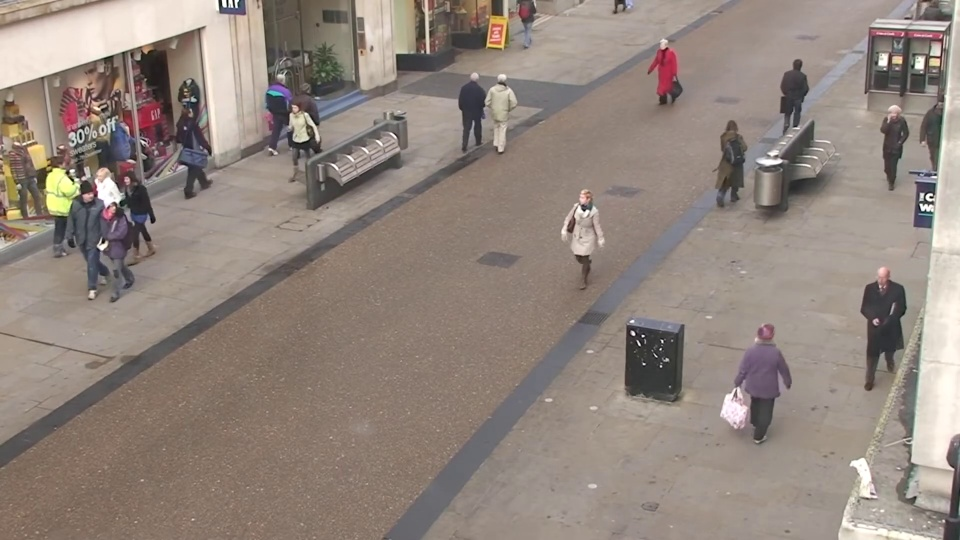pedestrian: (741, 310, 794, 457), (850, 262, 905, 398), (85, 193, 135, 307), (63, 183, 114, 294), (75, 166, 124, 272), (50, 148, 99, 251), (104, 170, 151, 277), (563, 186, 599, 302), (867, 103, 909, 198), (179, 101, 216, 190), (716, 110, 749, 204), (276, 103, 310, 193), (298, 77, 329, 160), (782, 54, 813, 134), (272, 67, 303, 147), (491, 69, 520, 152), (463, 64, 491, 146), (646, 37, 671, 111)
